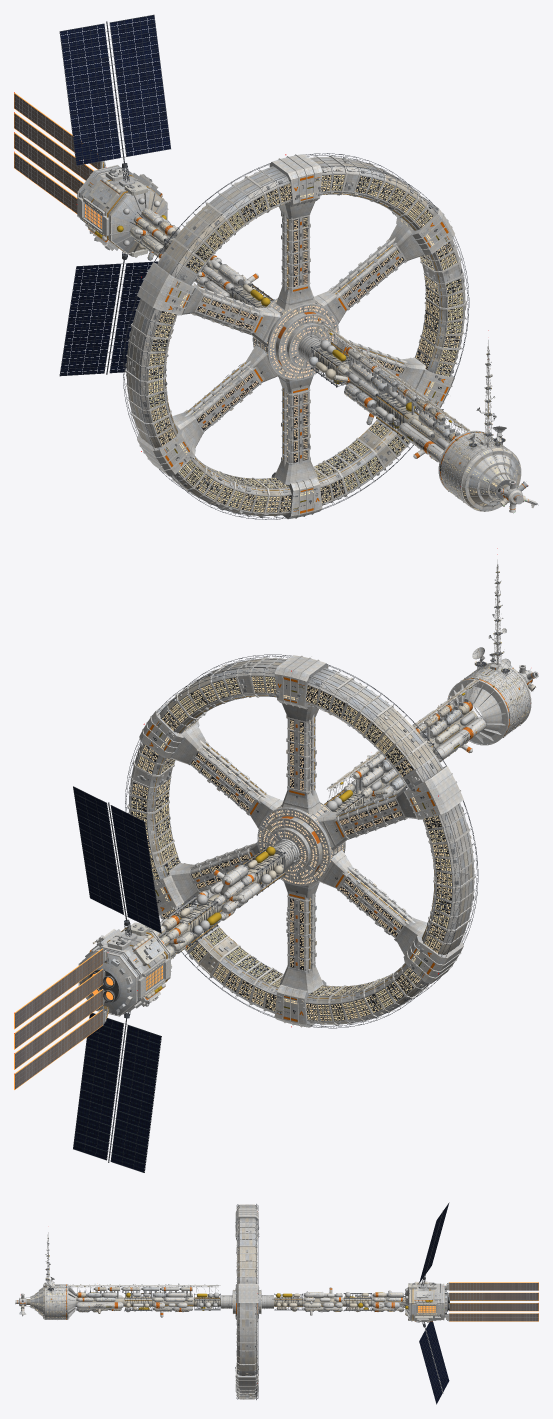
File: station_macro.glb
3 renders of one model, top to bottom at view 1: azimuth 30°, elevation 25°; view 2: azimuth 150°, elevation 25°; view 3: azimuth 270°, elevation 25°, orthographic. The views are drawn at different scales.
Parts seen in each view (by area): view 1: ring, spine, solar_wings, radiators, windows_spokes, windows_ring_5, windows_ring_3, windows_ring_4, windows_ring_2, windows_ring_6, windows_ring_1, comms_mast (+1 smaller); view 2: ring, spine, solar_wings, radiators, windows_spokes, windows_ring_3, windows_ring_4, windows_ring_5, windows_ring_6, windows_ring_2, windows_ring_1; view 3: spine, ring, radiators, solar_wings.
Boxes of the visible parts, left/top/right/bottom form: ring: left=122, top=153, right=469, bottom=519; spine: left=77, top=165, right=538, bottom=513; solar_wings: left=59, top=14, right=170, bottom=376; radiators: left=14, top=92, right=105, bottom=213; windows_spokes: left=192, top=218, right=403, bottom=461; windows_ring_5: left=416, top=241, right=462, bottom=388; windows_ring_3: left=179, top=449, right=305, bottom=512; windows_ring_4: left=307, top=389, right=430, bottom=502; windows_ring_2: left=148, top=301, right=184, bottom=448; windows_ring_6: left=307, top=175, right=433, bottom=239; windows_ring_1: left=183, top=184, right=305, bottom=299; comms_mast: left=481, top=340, right=496, bottom=447; ring: left=125, top=654, right=478, bottom=1028; spine: left=78, top=653, right=538, bottom=1016; solar_wings: left=73, top=786, right=161, bottom=1172; radiators: left=14, top=948, right=109, bottom=1089; windows_spokes: left=192, top=720, right=407, bottom=969; windows_ring_3: left=291, top=956, right=420, bottom=1020; windows_ring_4: left=162, top=895, right=289, bottom=1010; windows_ring_5: left=131, top=743, right=179, bottom=894; windows_ring_6: left=162, top=676, right=289, bottom=742; windows_ring_2: left=415, top=805, right=451, bottom=954; windows_ring_1: left=291, top=685, right=416, bottom=803; spine: left=15, top=1277, right=449, bottom=1322; ring: left=232, top=1204, right=261, bottom=1399; radiators: left=445, top=1282, right=538, bottom=1321; solar_wings: left=419, top=1202, right=449, bottom=1404.
Bounding box in the file's own units: 659 × 682 × 1757.
Materials: 17 (7 with a texture image).
